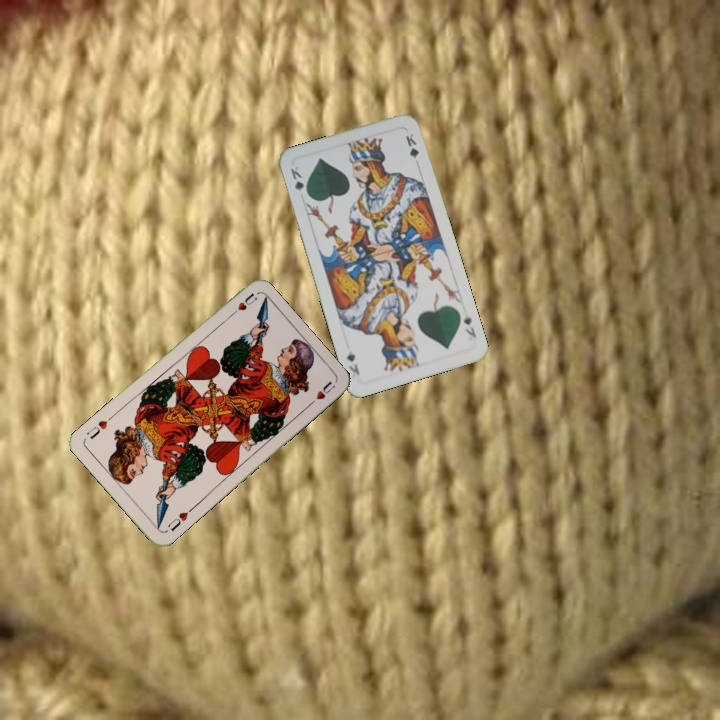GK: (286, 162, 311, 199), (459, 312, 479, 340)
HU: (225, 289, 260, 320), (163, 504, 195, 534)
